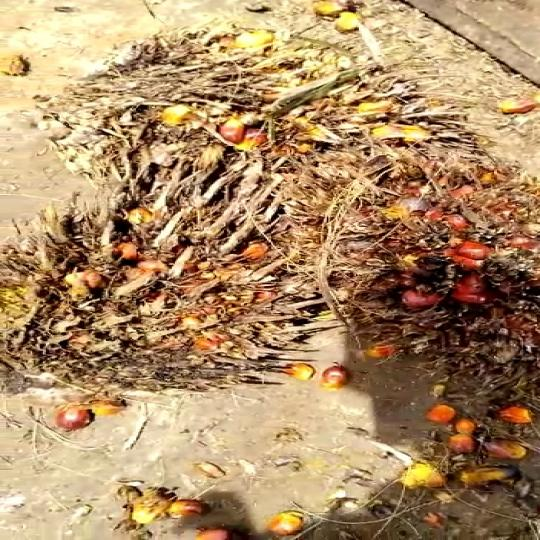terlalu masak: (0, 191, 362, 395), (10, 33, 476, 179)
